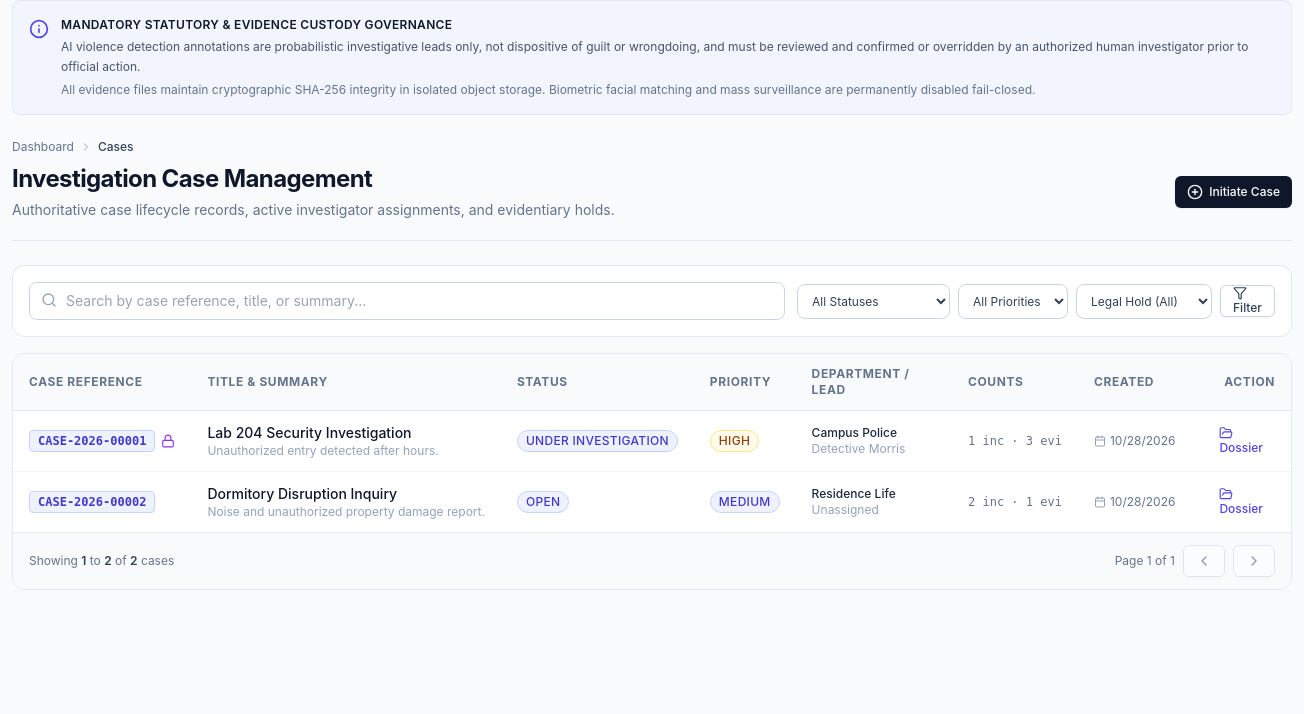
CasesPage Component › opens dossier view when clicking a case row and allows returning to list
Expected: the text "CASE-2026-00001" is shown, [29, 430, 155, 452]
// Click on row to open dossier
Click the row that starts with "CASE-2026-00001" at (652, 441), box [13, 410, 1291, 472]
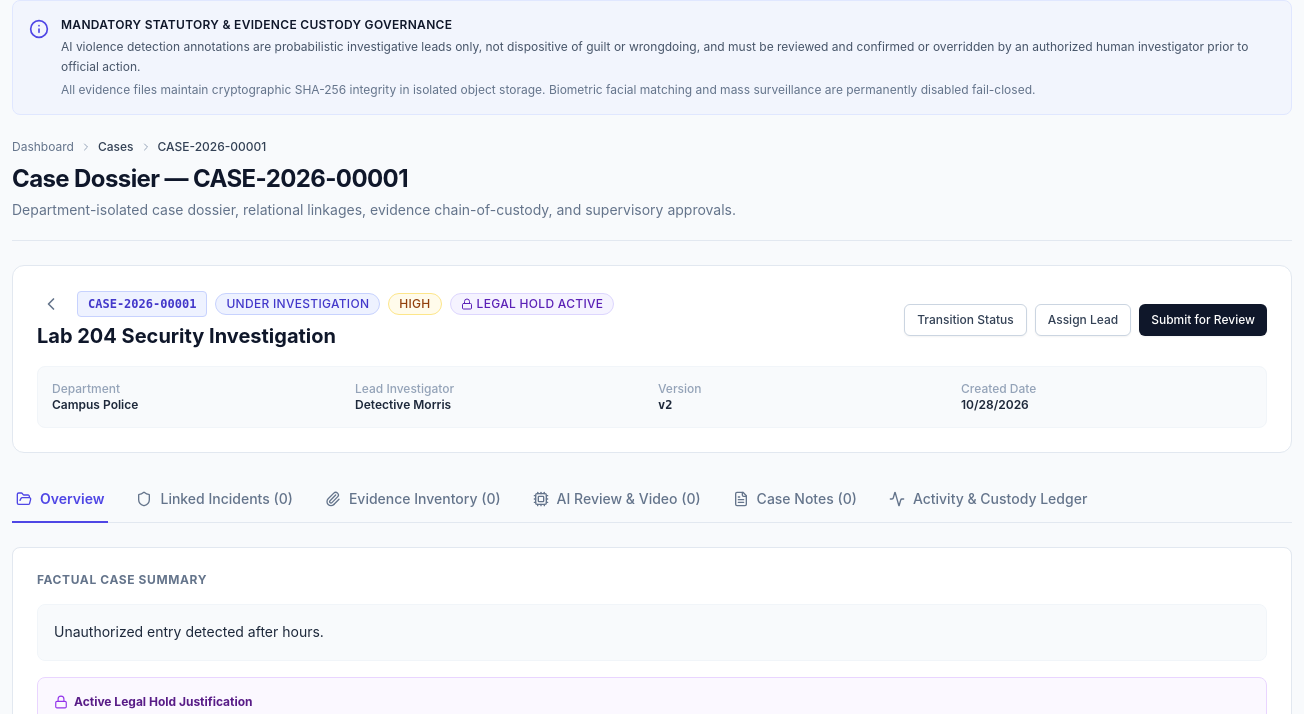
Expected: the text "Unauthorized entry detected after hours." is shown, [37, 604, 1267, 661]
Now the heading "Factual Case Summary" is shown, box [37, 572, 207, 587]
Now the text "Active Legal Hold Justification" is shown, box [54, 694, 252, 709]
// Click back button to return to case table
Click the button named "back to cases" at (51, 304), box [37, 290, 65, 318]
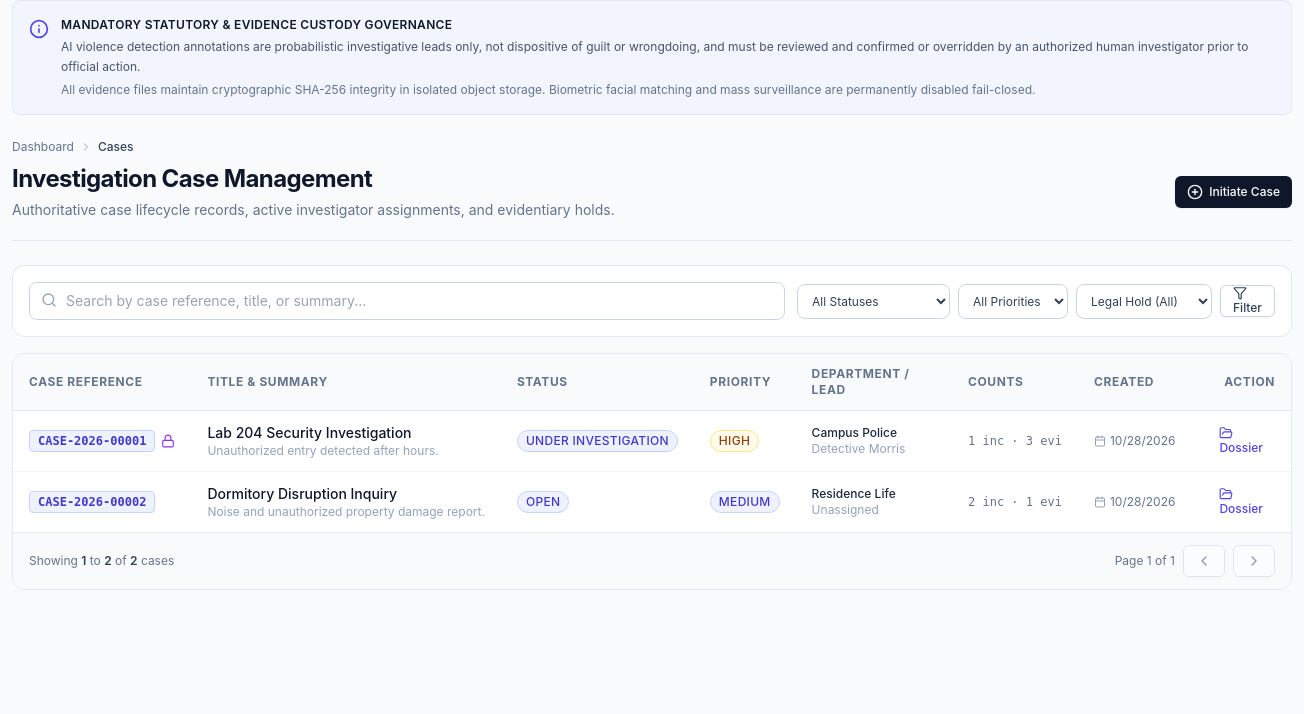
Now the element with test id "case-list-table" is shown, box [12, 265, 1292, 590]
